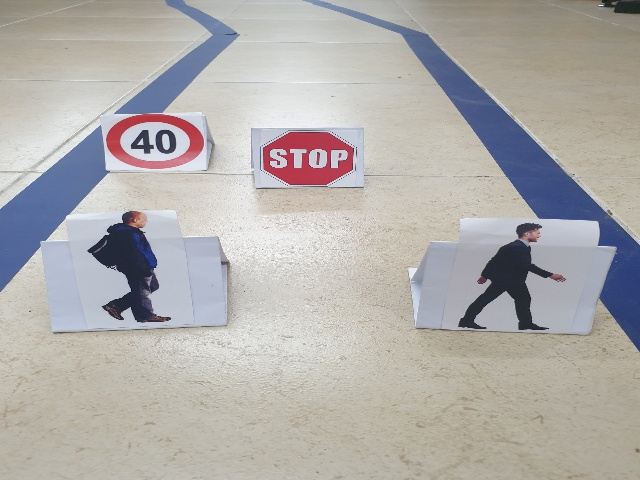Limit 40: (107, 114, 205, 170)
Person: (459, 223, 567, 333), (88, 211, 174, 326)
Stop: (260, 129, 358, 186)
